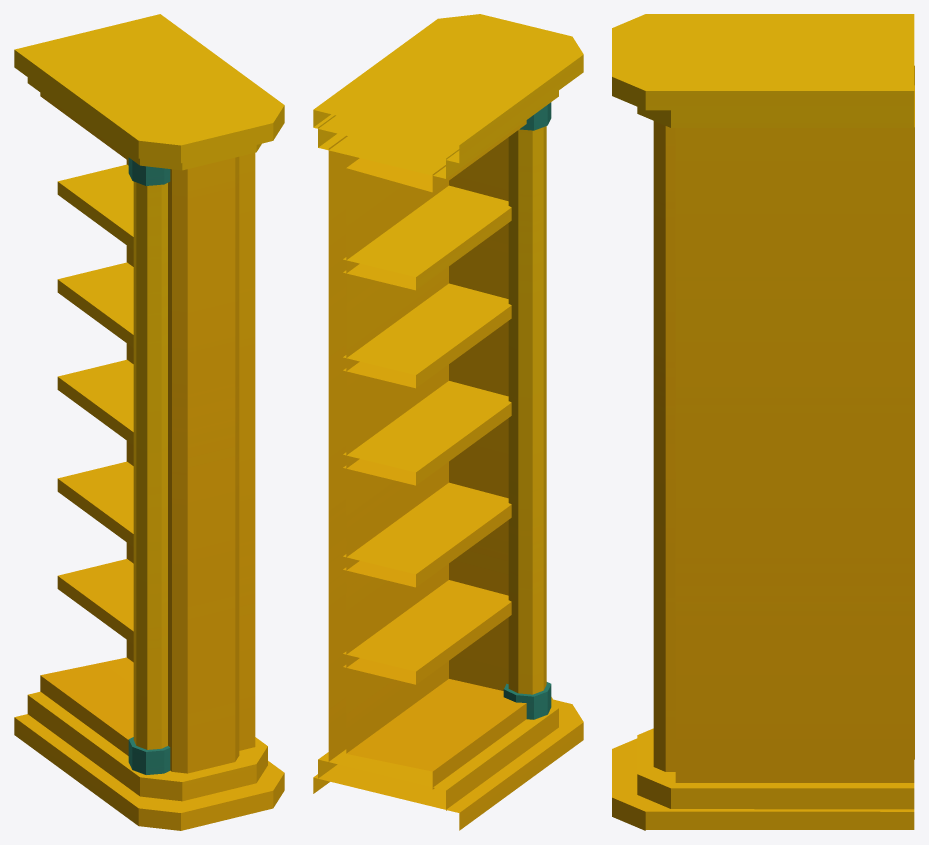
Rendered from Bookshelf 02 End.fbx.
The picture shows the model from 3 angles, left to right: view 1: azimuth 30°, elevation 25°; view 2: azimuth 150°, elevation 25°; view 3: azimuth 270°, elevation 25°; orthographic projection. The views are drawn at different scales.
Parts seen in each view (by area): view 1: Bookshelf 02 End; view 2: Bookshelf 02 End; view 3: Bookshelf 02 End.
Part boxes in pixels (x1=…): Bookshelf 02 End: x1=14, y1=14, x2=284, y2=830; Bookshelf 02 End: x1=313, y1=14, x2=583, y2=830; Bookshelf 02 End: x1=612, y1=14, x2=914, y2=830.
Bounding box in the file's own units: 59.71 × 267 × 99.18.
